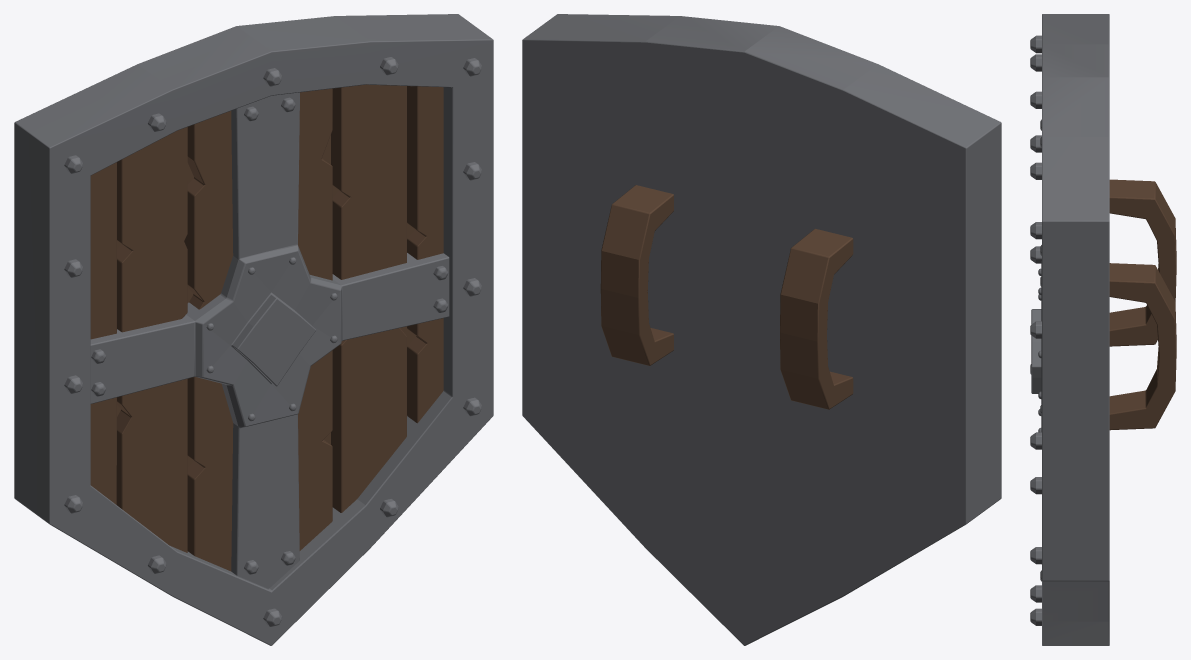
The model's file is shield_2.glb.
3 views of the same model, side by side, from view 1: azimuth 30°, elevation 25°; view 2: azimuth 150°, elevation 25°; view 3: azimuth 270°, elevation 25° (orthographic). The views are drawn at different scales.
Parts seen in each view (by area): view 1: shield_2; view 2: shield_2; view 3: shield_2.
Part boxes in pixels (x1=…): shield_2: x1=14, y1=14, x2=493, y2=645; shield_2: x1=522, y1=14, x2=1001, y2=645; shield_2: x1=1030, y1=14, x2=1176, y2=645.
Bounding box in the file's own units: 0.7042 × 0.9 × 0.2097.
